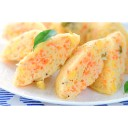idly: (18, 32, 108, 97), (6, 31, 45, 56), (4, 22, 45, 33)
